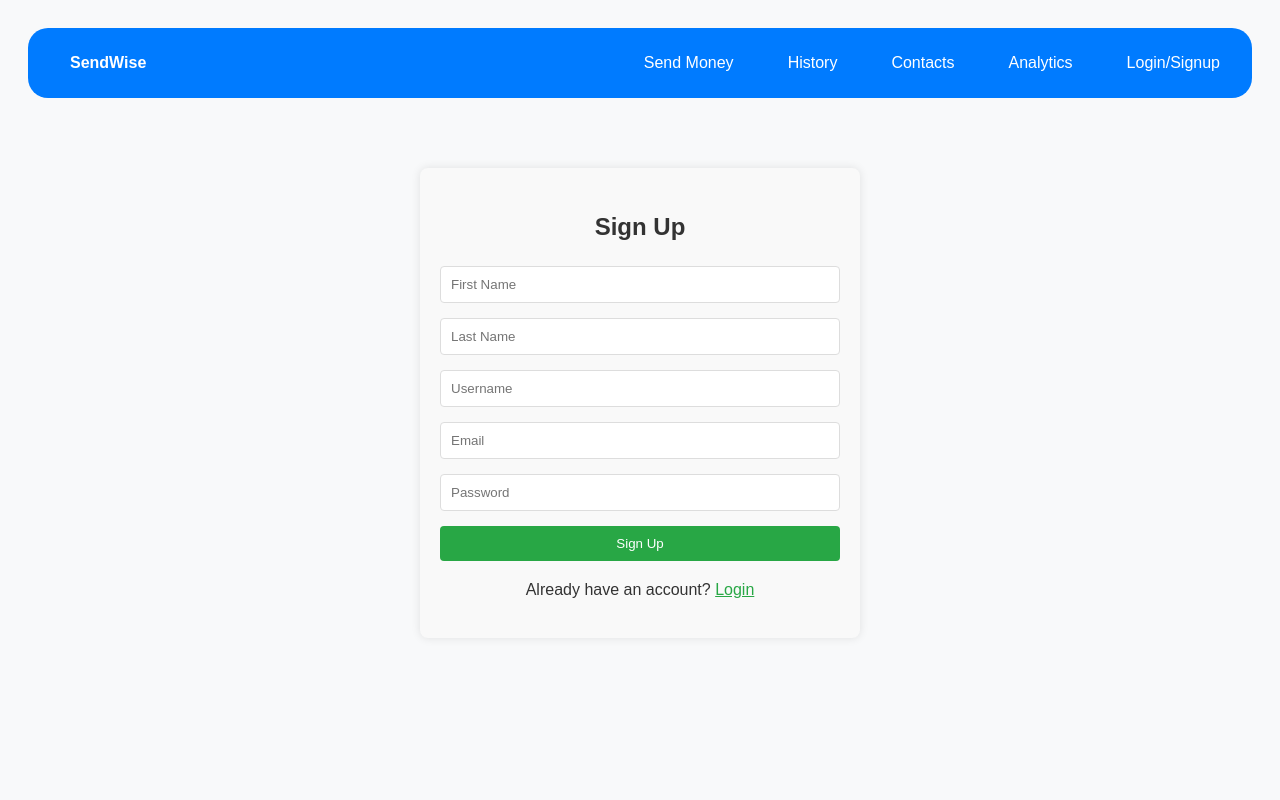
Test: Signup Page › should display an error message on signup failure
Type "John" into the field with placeholder "First Name" at (640, 285), box top-left (440, 266), bottom-right (840, 303)
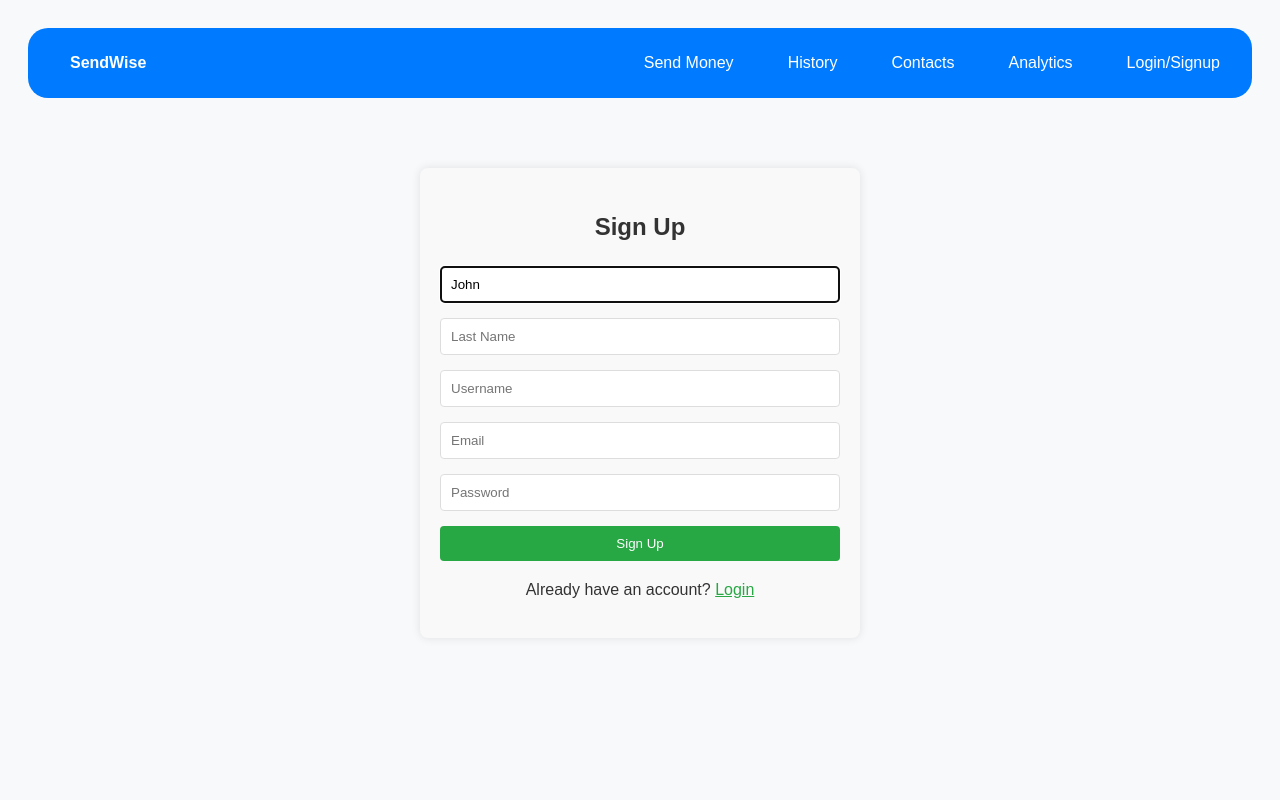
Type "Doe" into the field with placeholder "Last Name" at (640, 337), box top-left (440, 318), bottom-right (840, 355)
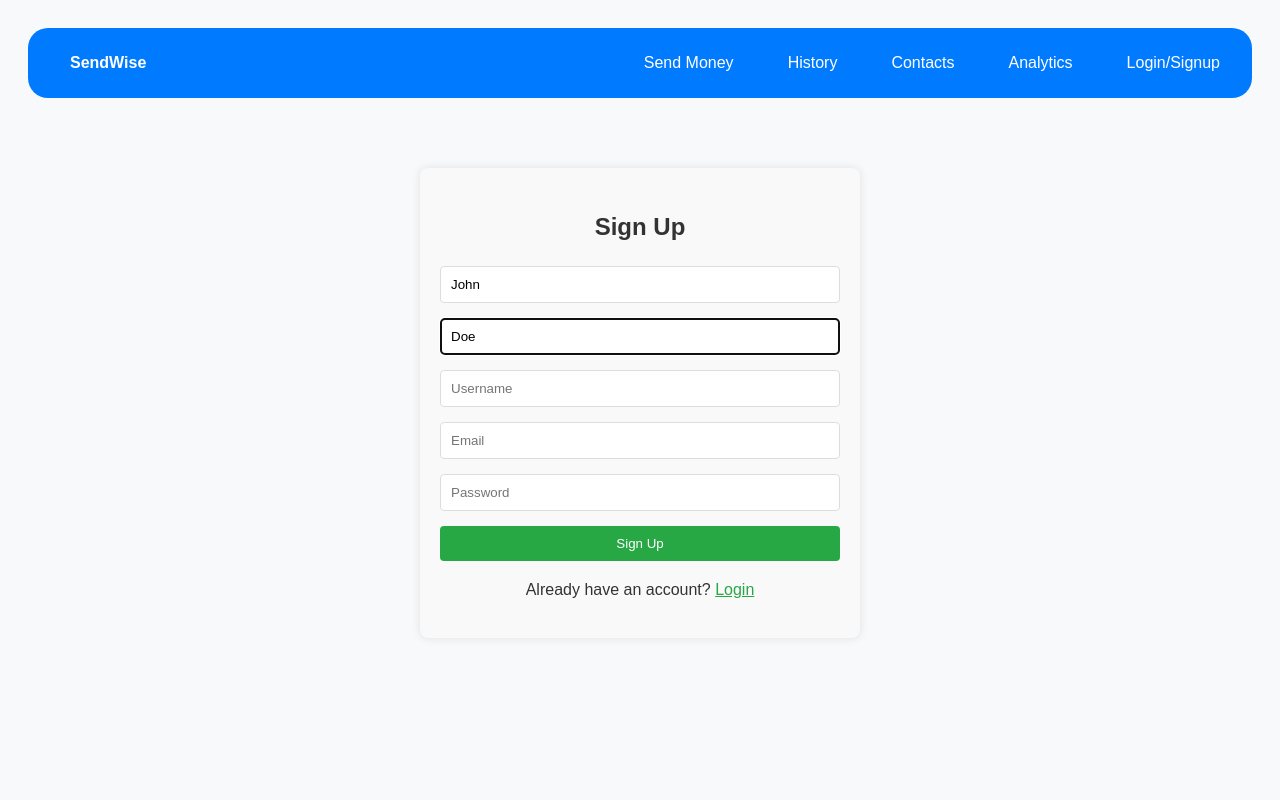
Type "johndoe" into the field with placeholder "Username" at (640, 389), box top-left (440, 370), bottom-right (840, 407)
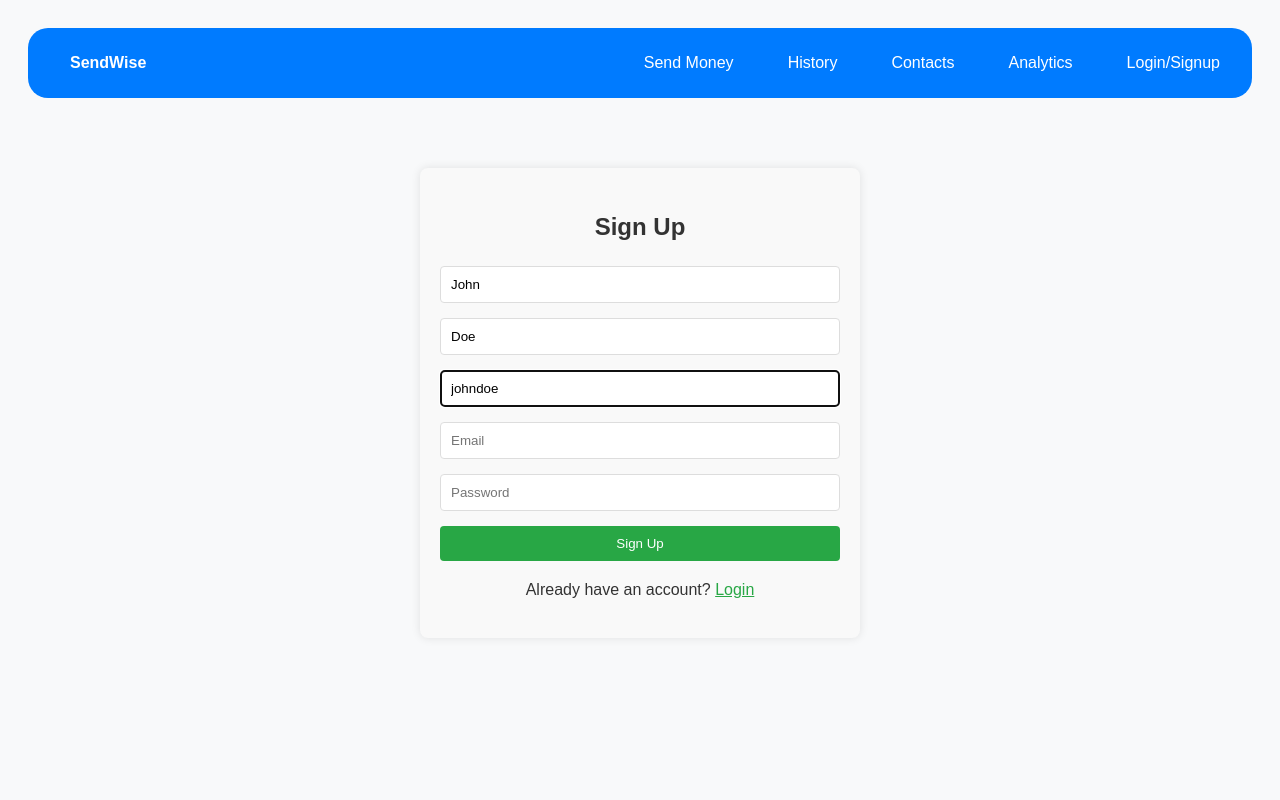
Type "john@example.com" into the field with placeholder "Email" at (640, 441), box top-left (440, 422), bottom-right (840, 459)
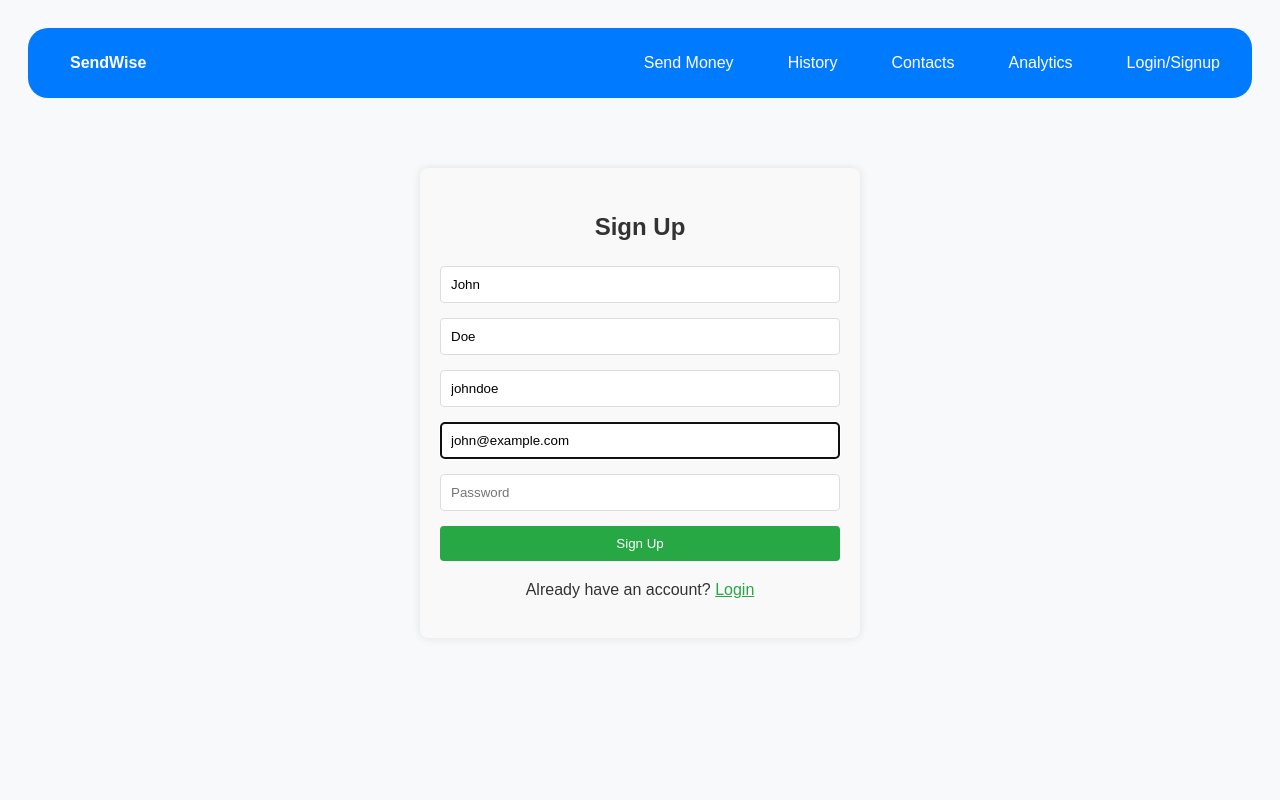
Type "password" into the password field with placeholder "Password" at (640, 493), box top-left (440, 474), bottom-right (840, 511)
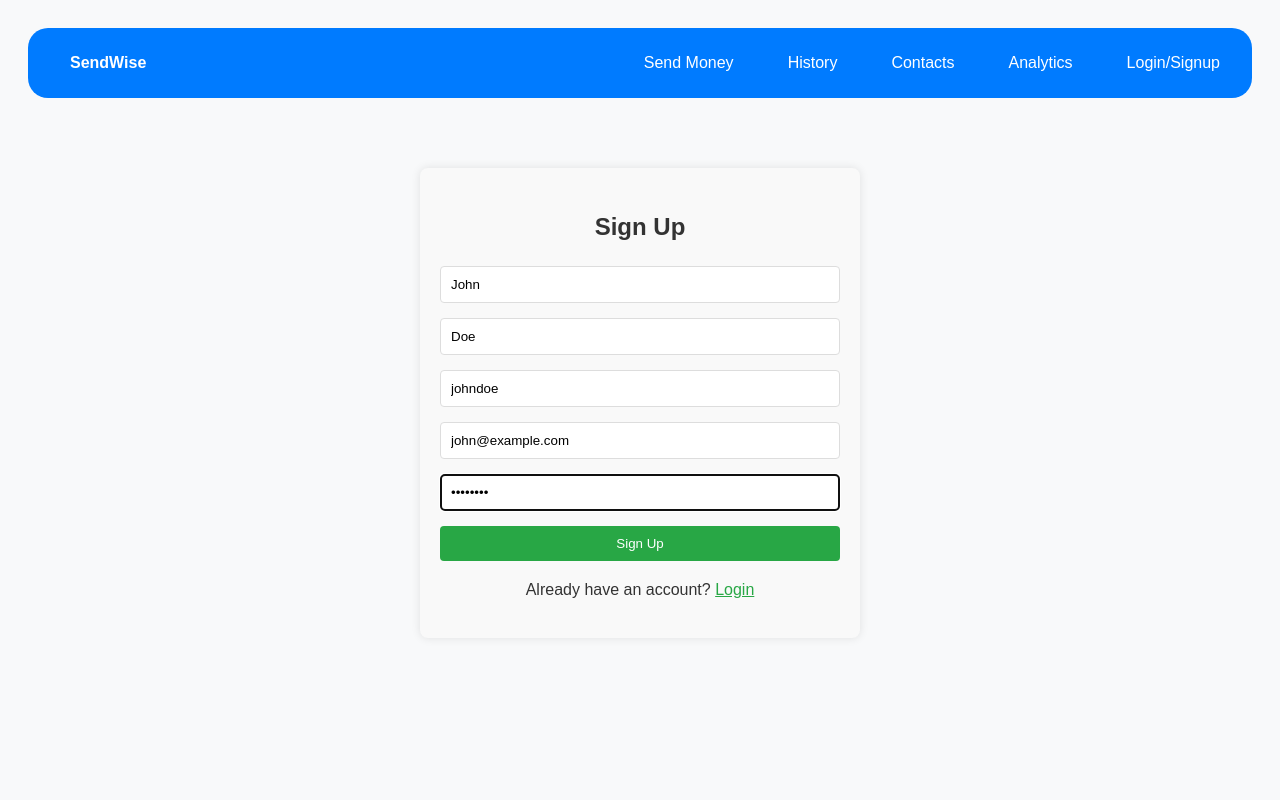
Click the submit button at (640, 544), box top-left (440, 526), bottom-right (840, 561)
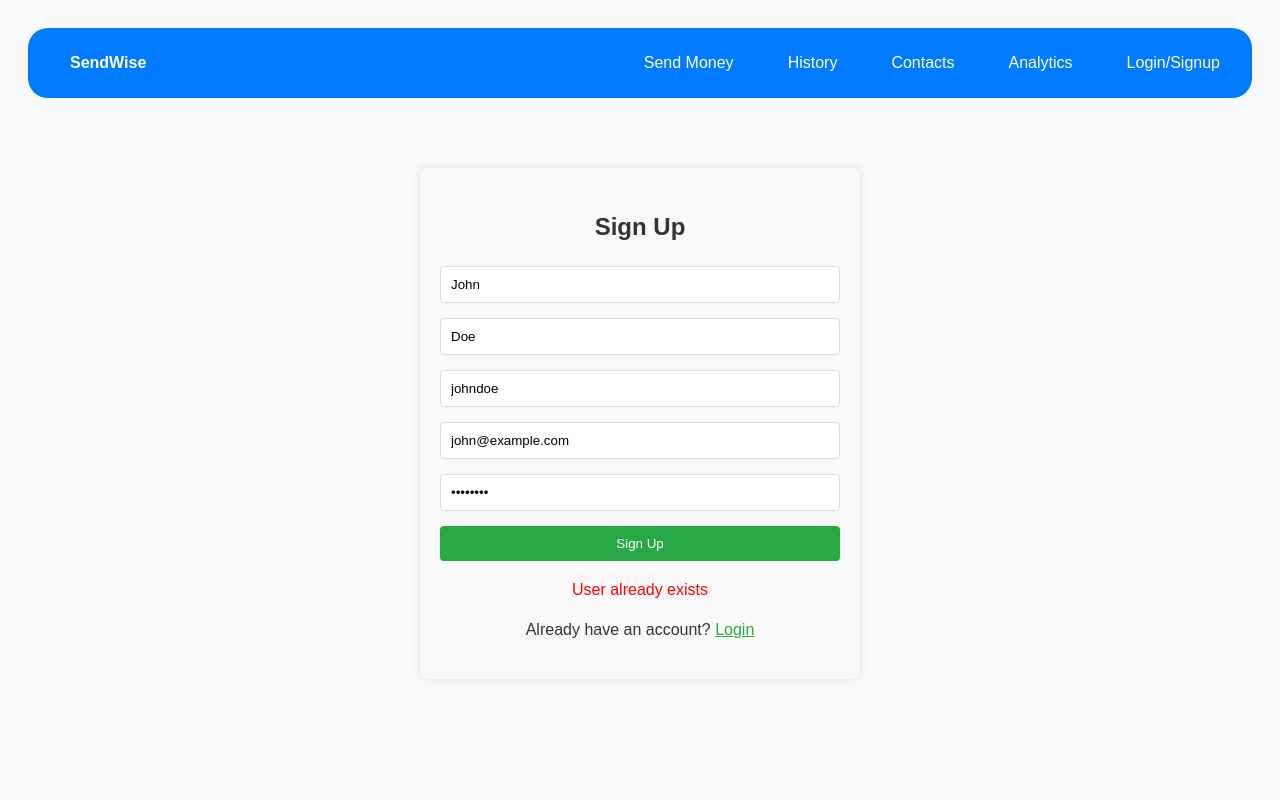
Expected: the text with test id "error-message" reads "User already exists", top-left (572, 581), bottom-right (708, 598)
